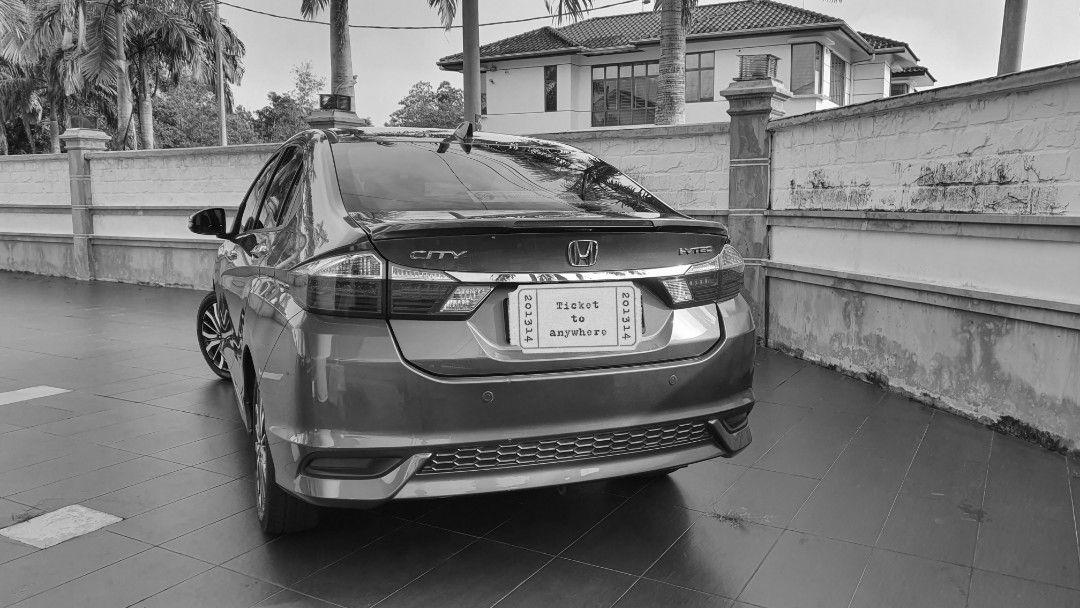Car boot: (355, 206, 727, 378)
Fender - -R-L-: (248, 226, 345, 398)
Passenger-s door - -F-L-: (220, 133, 262, 330)
Passenger-s door - -R-L-: (243, 128, 310, 394)
Rear bumper: (261, 306, 770, 518)
Rear light - -L-: (281, 231, 501, 325)
Rear light - -R-: (640, 239, 751, 318)
Side bumper - -L-: (211, 326, 258, 433)
Side mirror - -L-: (180, 201, 242, 246)
